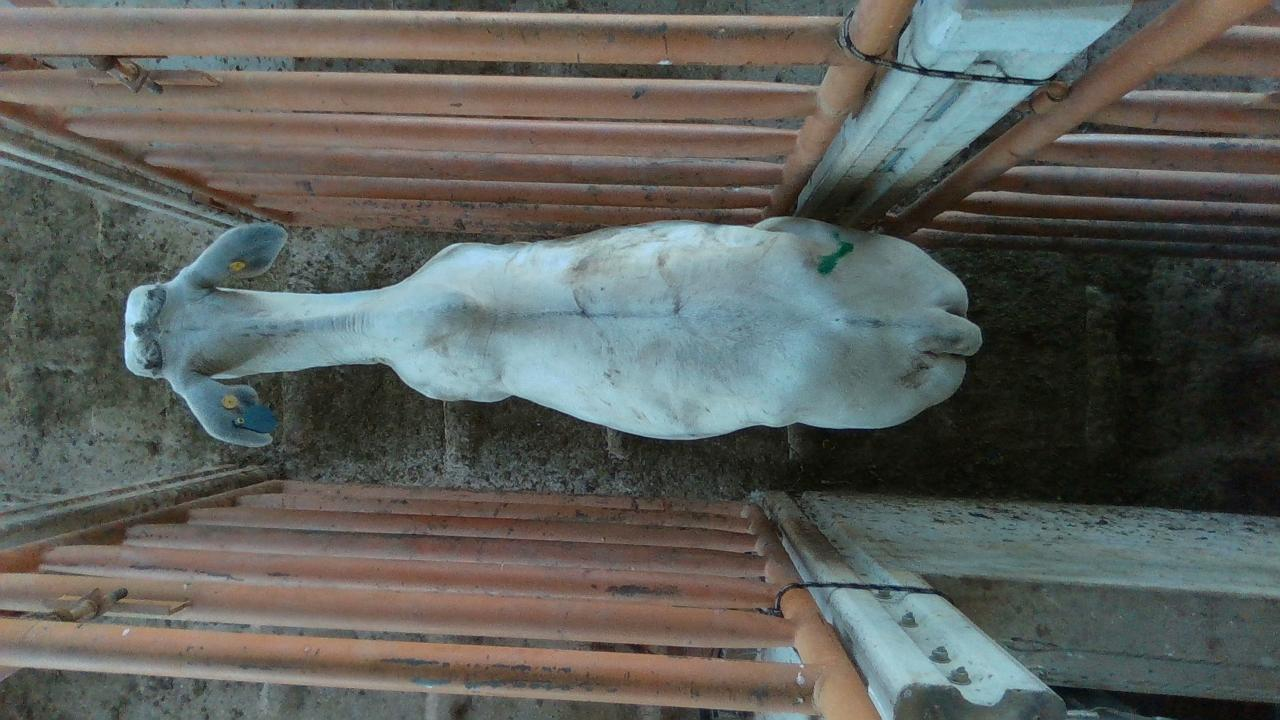cattle: (121, 212, 984, 448)
